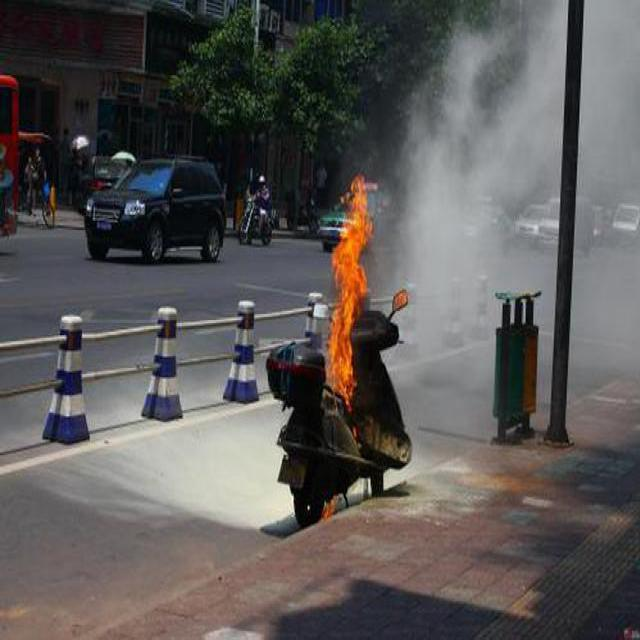fire: (326, 164, 366, 410), (323, 496, 342, 516)
smoke: (410, 134, 490, 342), (588, 20, 630, 191)
